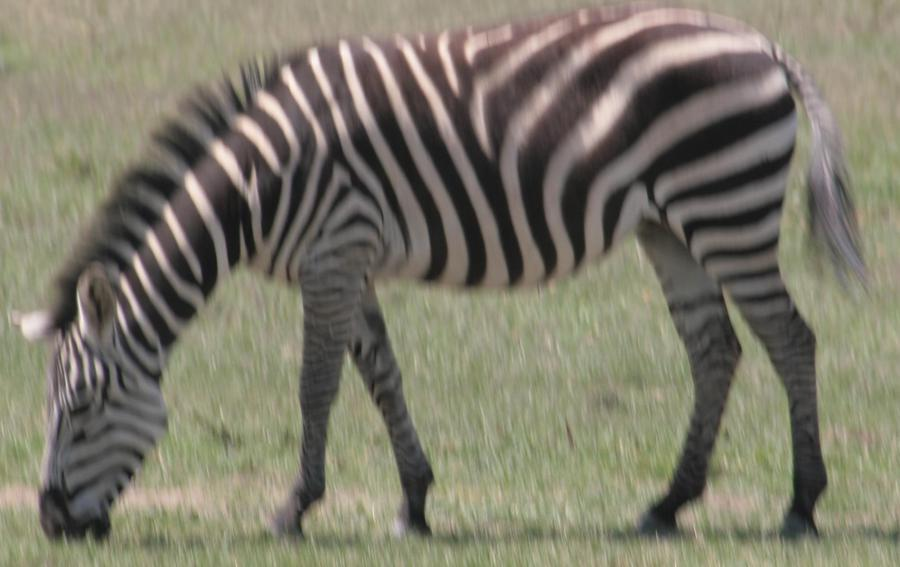zebra_plains: (258, 18, 775, 270)
